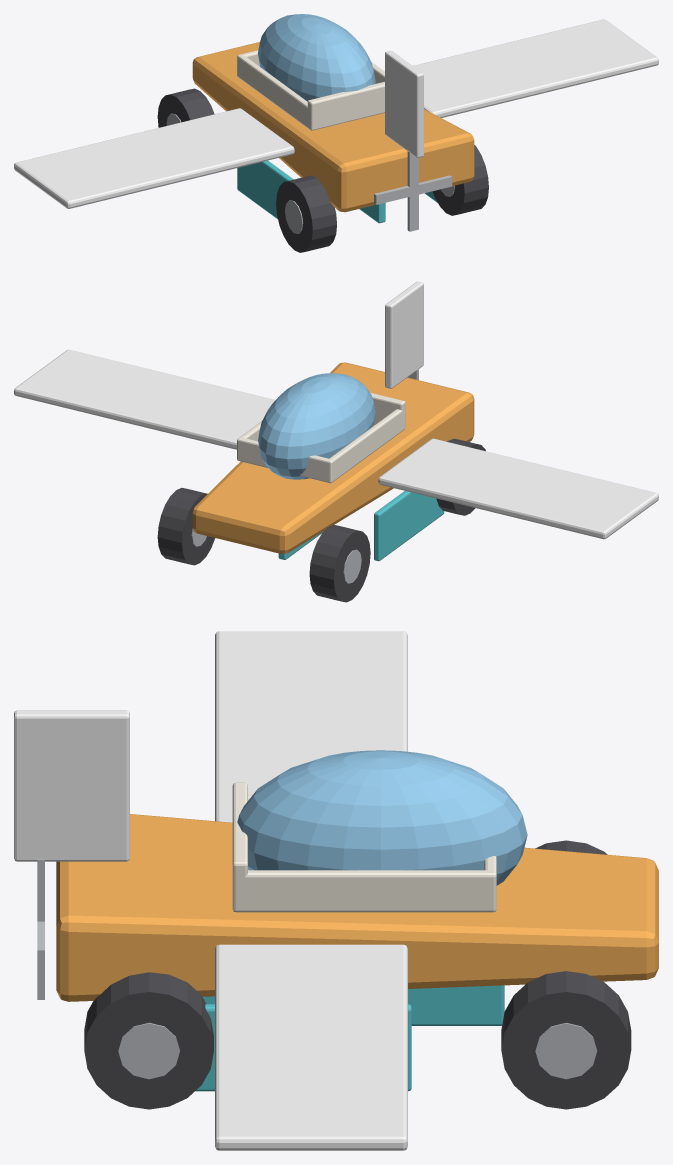
Rendered from ShiftVehicle.fbx.
The picture shows the model from 3 angles, top to bottom: view 1: azimuth 30°, elevation 25°; view 2: azimuth 150°, elevation 25°; view 3: azimuth 270°, elevation 25°; orthographic projection. The views are drawn at different scales.
Parts seen in each view (by area): view 1: Body, Wing_L, Wing_R, Canopy, Cockpit, Wheel_RL, Tail, Fin_L, Wheel_RR, Prop, Wheel_FL; view 2: Body, Wing_L, Wing_R, Canopy, Cockpit, Wheel_FL, Tail, Wheel_FR, Fin_L, Wheel_RL; view 3: Body, Wing_R, Canopy, Wing_L, Tail, Wheel_FR, Wheel_RR, Cockpit, Keel, Prop, Fin_R.
Part boxes in pixels (x1,y1,x2,y2): Body: (192,42,474,212); Wing_L: (14,108,294,208); Wing_R: (413,19,658,117); Canopy: (257,14,375,101); Cockpit: (237,50,384,130); Wheel_RL: (276,175,336,252); Tail: (385,50,423,157); Fin_L: (237,160,293,219); Wheel_RR: (432,145,488,215); Prop: (374,150,452,231); Wheel_FL: (157,88,214,127); Body: (192,362,474,553); Wing_L: (378,438,658,539); Wing_R: (14,349,275,449); Canopy: (258,373,375,479); Cockpit: (237,392,405,483); Wheel_FL: (309,525,370,602); Tail: (385,281,423,388); Wheel_FR: (157,488,215,565); Fin_L: (374,491,444,561); Wheel_RL: (436,438,485,515); Body: (56,814,658,1001); Wing_R: (215,944,407,1150); Canopy: (237,750,527,885); Wing_L: (215,631,407,822); Tail: (14,710,129,861); Wheel_FR: (501,971,631,1109); Wheel_RR: (84,972,213,1109); Cockpit: (232,782,496,912); Keel: (203,985,504,1025); Prop: (37,859,44,999); Fin_R: (195,1004,411,1091).
Bounding box in the file's own units: 7.8 × 2.29 × 4.18.
